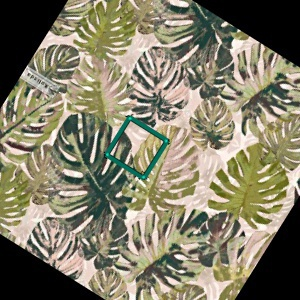square: (103, 115, 171, 180)
